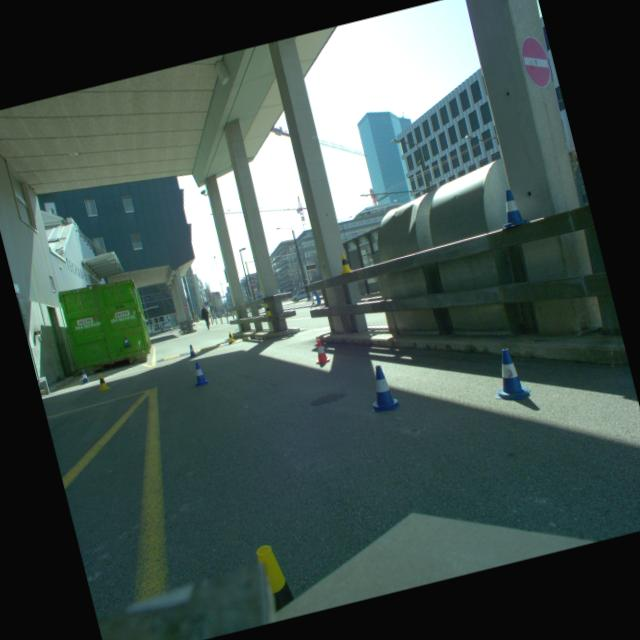blue_cone: (483, 344, 533, 406), (361, 362, 401, 415), (493, 186, 527, 229), (186, 359, 211, 387), (78, 368, 90, 384), (186, 344, 196, 356), (123, 336, 130, 346)
orange_cone: (310, 336, 332, 364)
yellow_cone: (252, 542, 296, 613), (336, 251, 353, 274), (94, 372, 110, 392), (262, 302, 272, 316), (226, 330, 235, 342)
